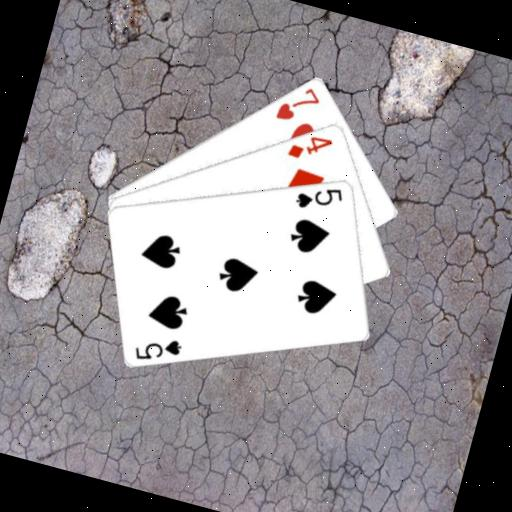4D: (284, 125, 336, 168)
5S: (291, 174, 347, 218), (130, 326, 186, 370)
7H: (271, 76, 324, 129)
